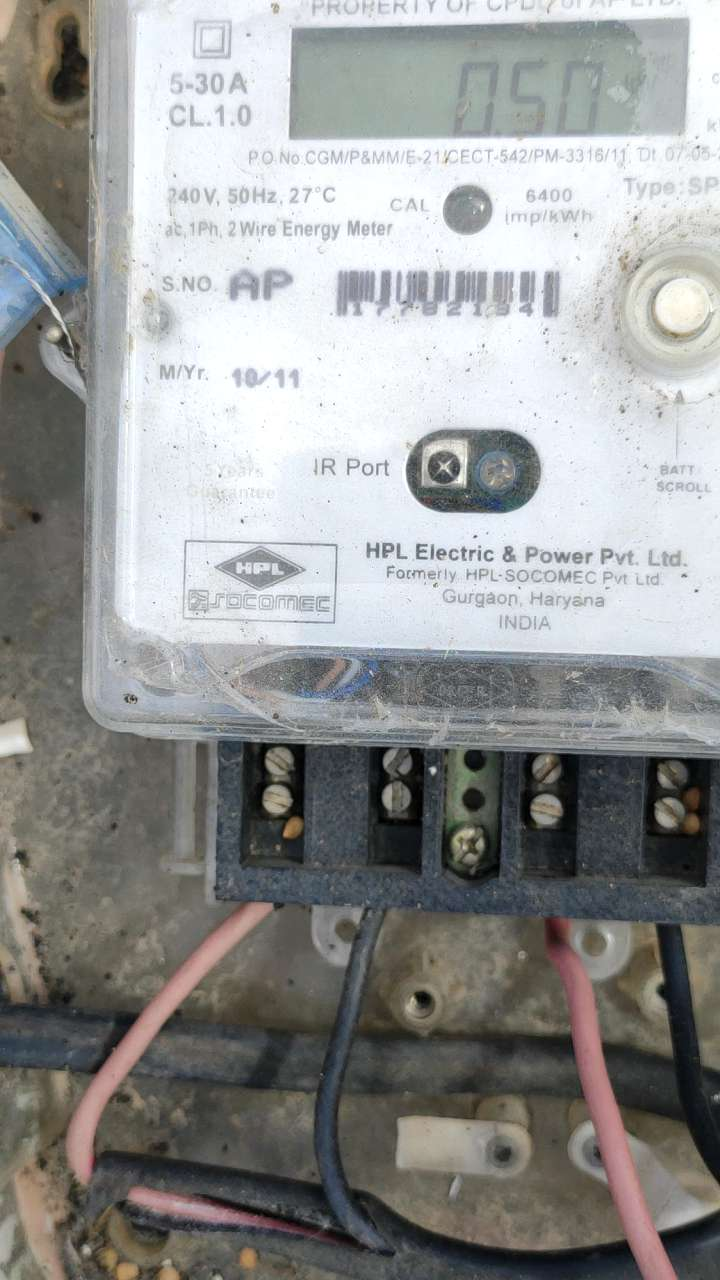meter_serial_number: (346, 297, 541, 320)
